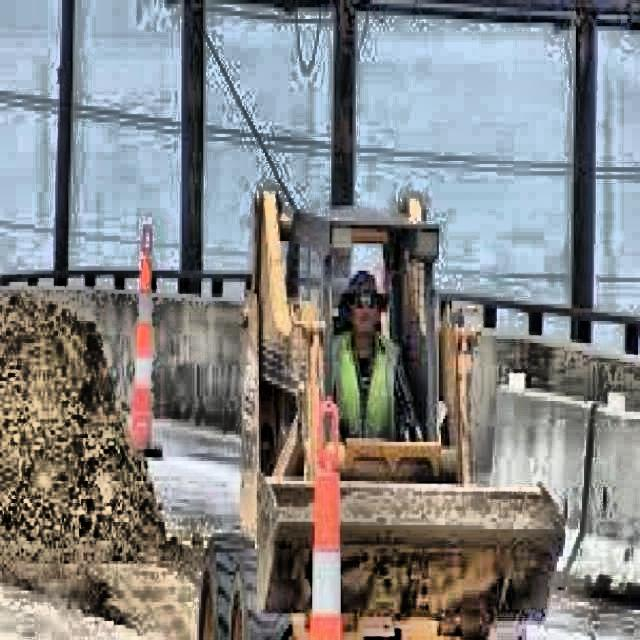bull_dozer/loader/grader: (198, 186, 567, 640)
person: (332, 267, 418, 443)
